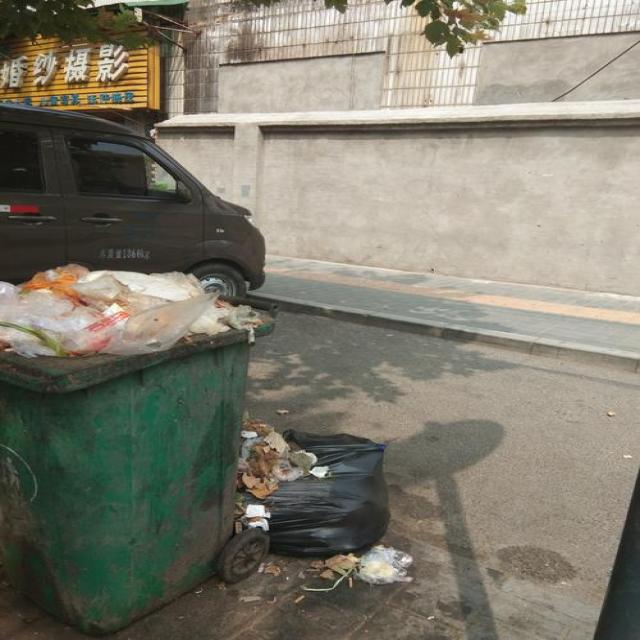garbage: (236, 415, 412, 592)
overflow: (0, 262, 275, 632)
